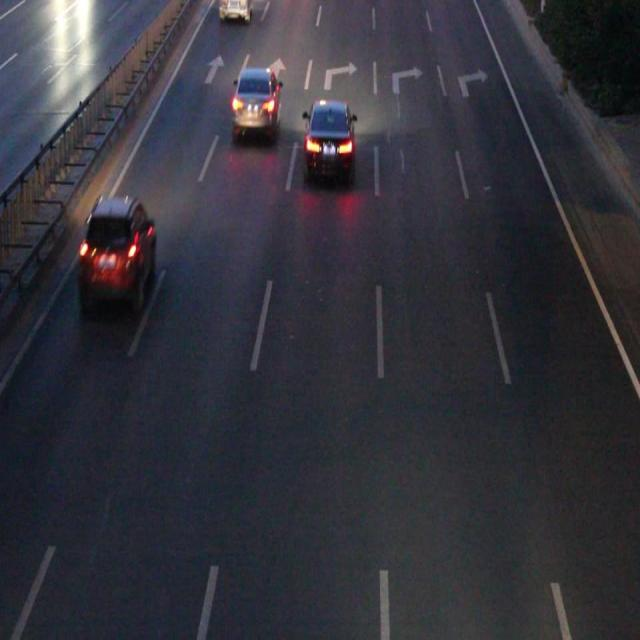car: (80, 199, 155, 305), (304, 104, 352, 177), (232, 70, 280, 134)
truck: (218, 1, 251, 20)
